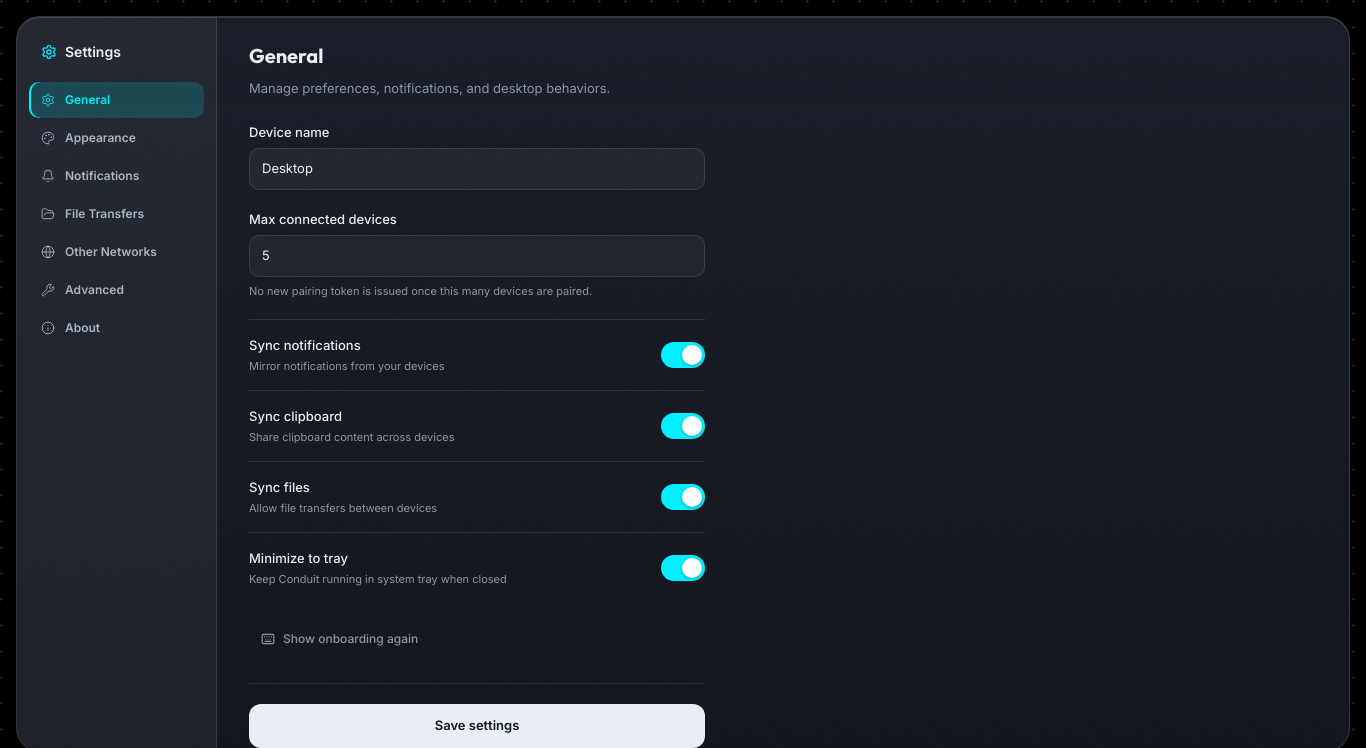
Test: Settings › relay panel › lets the relay be turned off, which is the point of the default
Expected: the text "Settings" is shown, [65,41,121,62]
Click the button "Other Networks" at x=116, y=252, box [29,234,204,270]
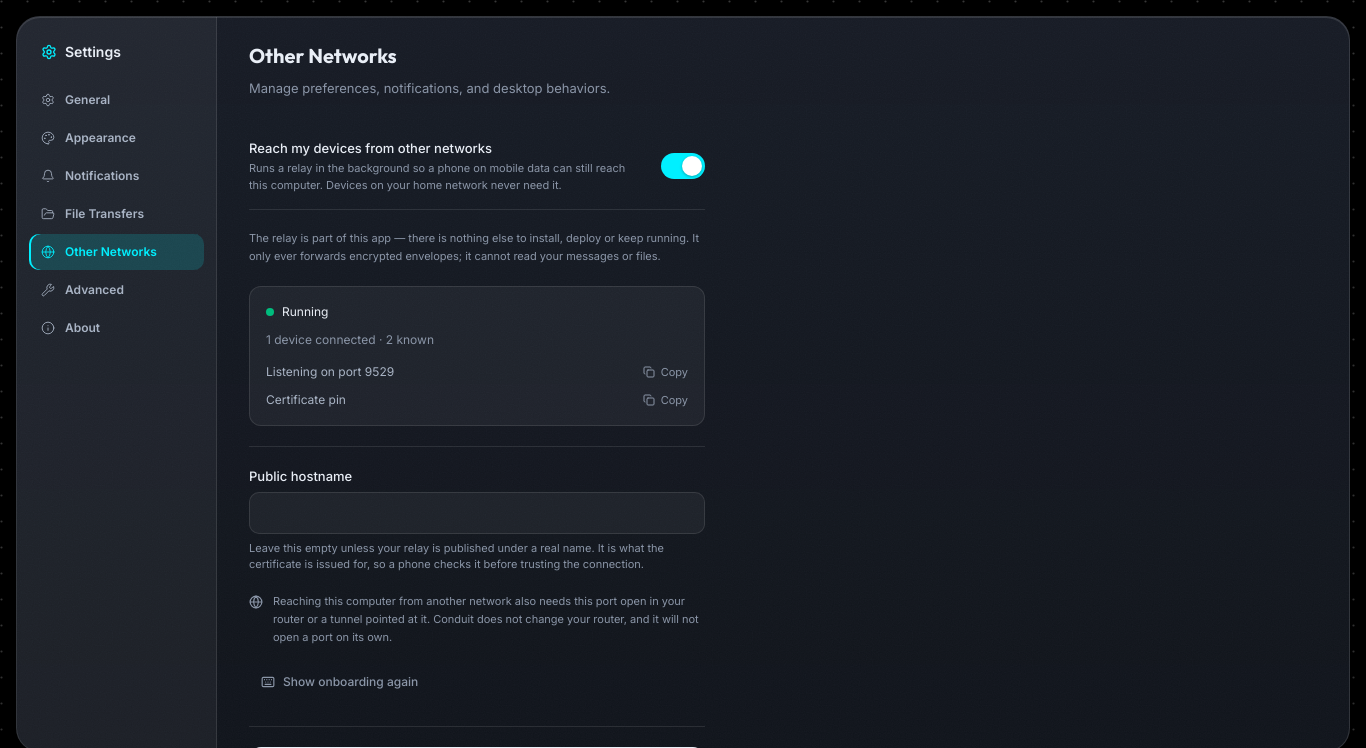
Result: the text "Running" is shown at [282,303,328,321]
Click the switch at x=683, y=166, box [661,150,705,182]
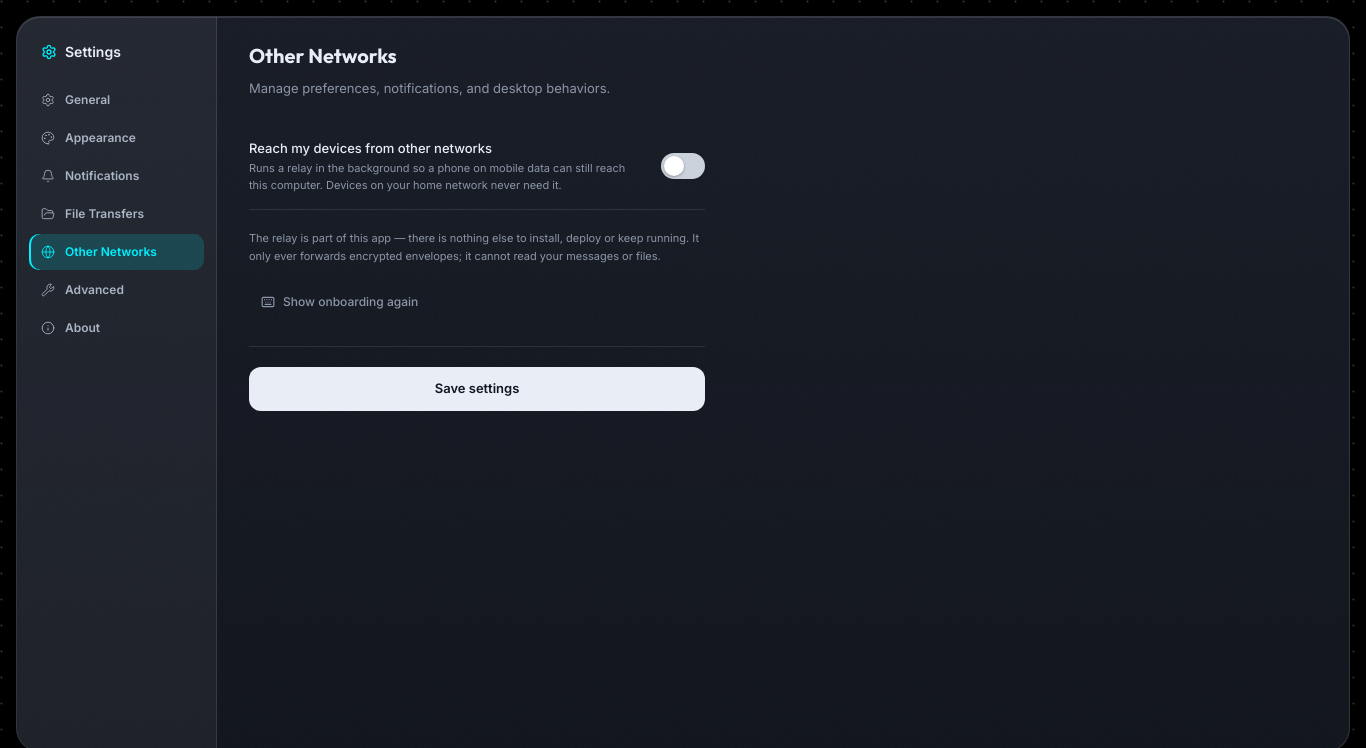
Expected: the text "Running" is not shown
Result: the text "Listening on port" is gone
